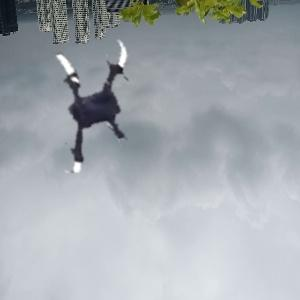drone: (12, 27, 160, 175)
